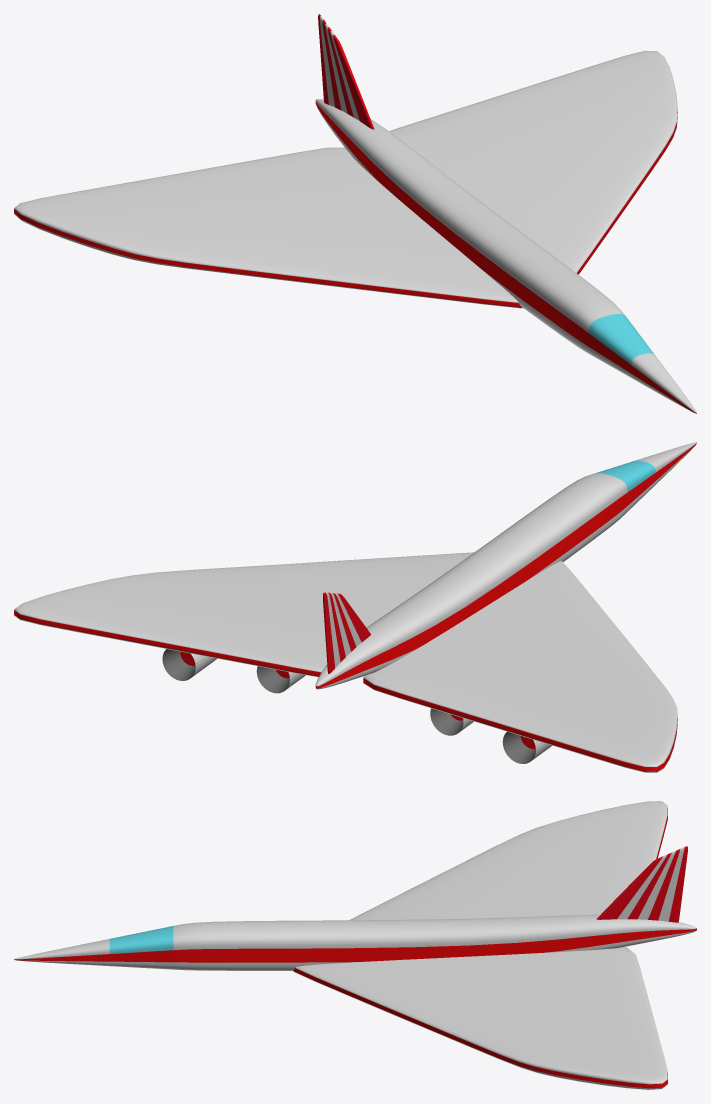
3 renders of one model, top to bottom at view 1: azimuth 30°, elevation 25°; view 2: azimuth 150°, elevation 25°; view 3: azimuth 270°, elevation 25°, orthographic. The views are drawn at different scales.
Visible parts, largest first — view 1: Cube.019, Cube.008, Cube.018, Cube.020; view 2: Cube.019, Cube.008, Cube.018, Cube.020, Cylinder.035, Cylinder.001, Cylinder.034, Cylinder.002; view 3: Cube.008, Cube.018, Cube.019, Cube.020.
Part boxes in pixels (box(x1,y1,x2,y2)): Cube.019: box(14, 147, 522, 308); Cube.008: box(389, 50, 677, 274); Cube.018: box(315, 99, 696, 413); Cube.020: box(318, 14, 374, 129); Cube.019: box(363, 561, 677, 772); Cube.008: box(14, 552, 473, 677); Cube.018: box(315, 442, 696, 689); Cube.020: box(323, 592, 370, 673); Cylinder.035: box(162, 649, 217, 680); Cylinder.001: box(502, 731, 552, 763); Cylinder.034: box(256, 666, 305, 693); Cylinder.002: box(430, 708, 473, 735); Cube.008: box(293, 947, 667, 1089); Cube.018: box(14, 914, 696, 970); Cube.019: box(349, 801, 667, 920); Cube.020: box(596, 846, 687, 922).
Bounding box in the file's own units: 2860 × 637 × 2931.
